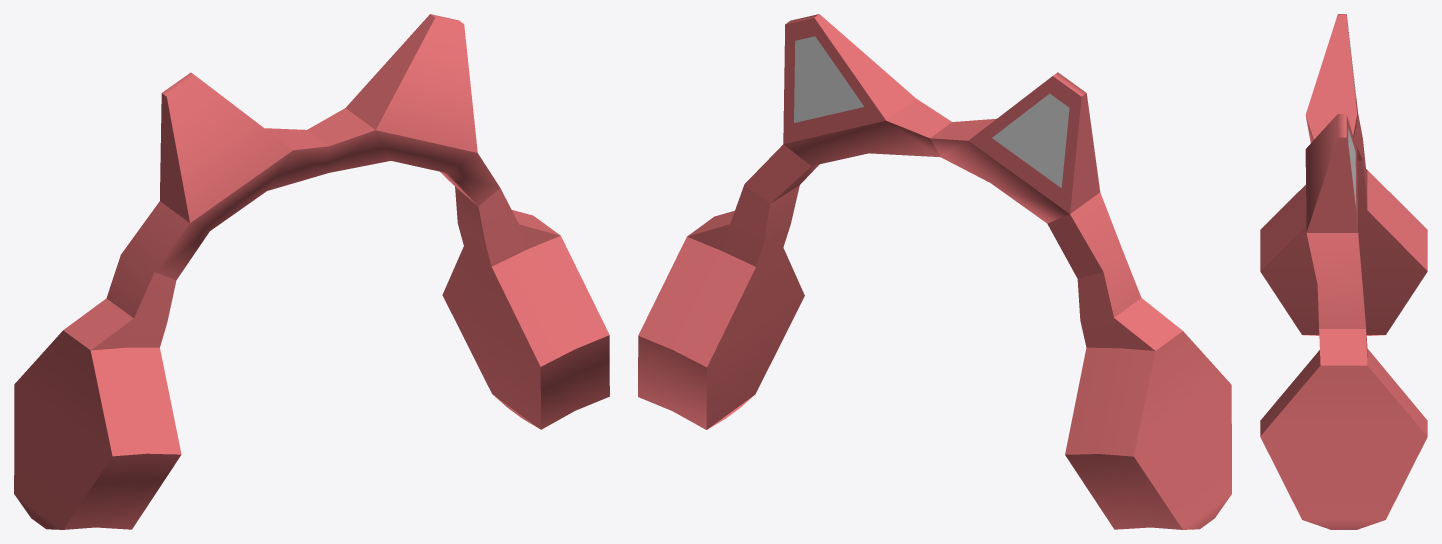
Rendered from EarmuffsCat.gltf.
3 renders of one model, left to right at view 1: azimuth 30°, elevation 25°; view 2: azimuth 150°, elevation 25°; view 3: azimuth 270°, elevation 25°, orthographic. The views are drawn at different scales.
Parts seen in each view (by area): view 1: EARMUFFS CAT; view 2: EARMUFFS CAT; view 3: EARMUFFS CAT.
Boxes of the visible parts, box(x1,y1,x2,y2) form: EARMUFFS CAT: box(14, 14, 609, 529); EARMUFFS CAT: box(638, 14, 1231, 529); EARMUFFS CAT: box(1260, 14, 1427, 529).
Size of the model in its own units: 0.3339 by 0.2444 by 0.104.
1 material, 1 textured.
